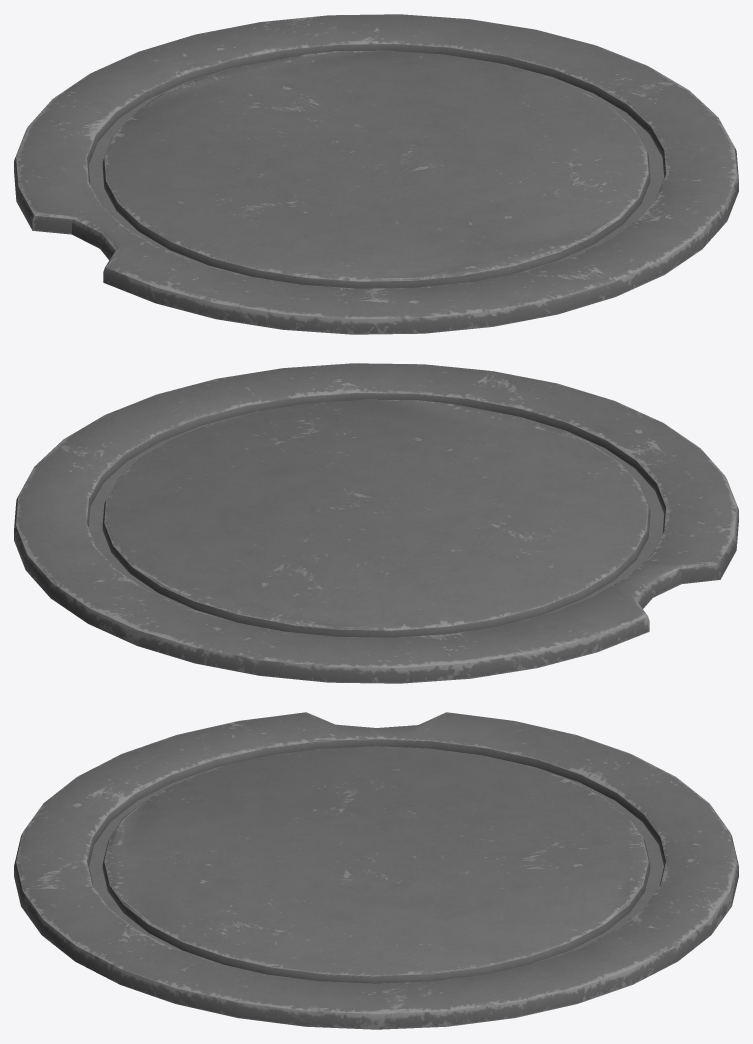
File: Alcantarilla Vertical Unity.fbx
The picture shows the model from 3 angles, top to bottom: view 1: azimuth 30°, elevation 25°; view 2: azimuth 150°, elevation 25°; view 3: azimuth 270°, elevation 25°; orthographic projection.
Visible parts, largest first — view 1: Alcantarilla; view 2: Alcantarilla; view 3: Alcantarilla.
Boxes of the visible parts, bbox=[...] form: Alcantarilla: bbox=[14, 14, 738, 334]; Alcantarilla: bbox=[14, 363, 738, 683]; Alcantarilla: bbox=[14, 712, 738, 1029].
Bounding box in the file's own units: 101 × 2.6 × 102.
